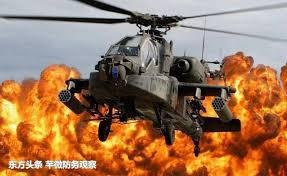fire: (0, 58, 158, 167)
